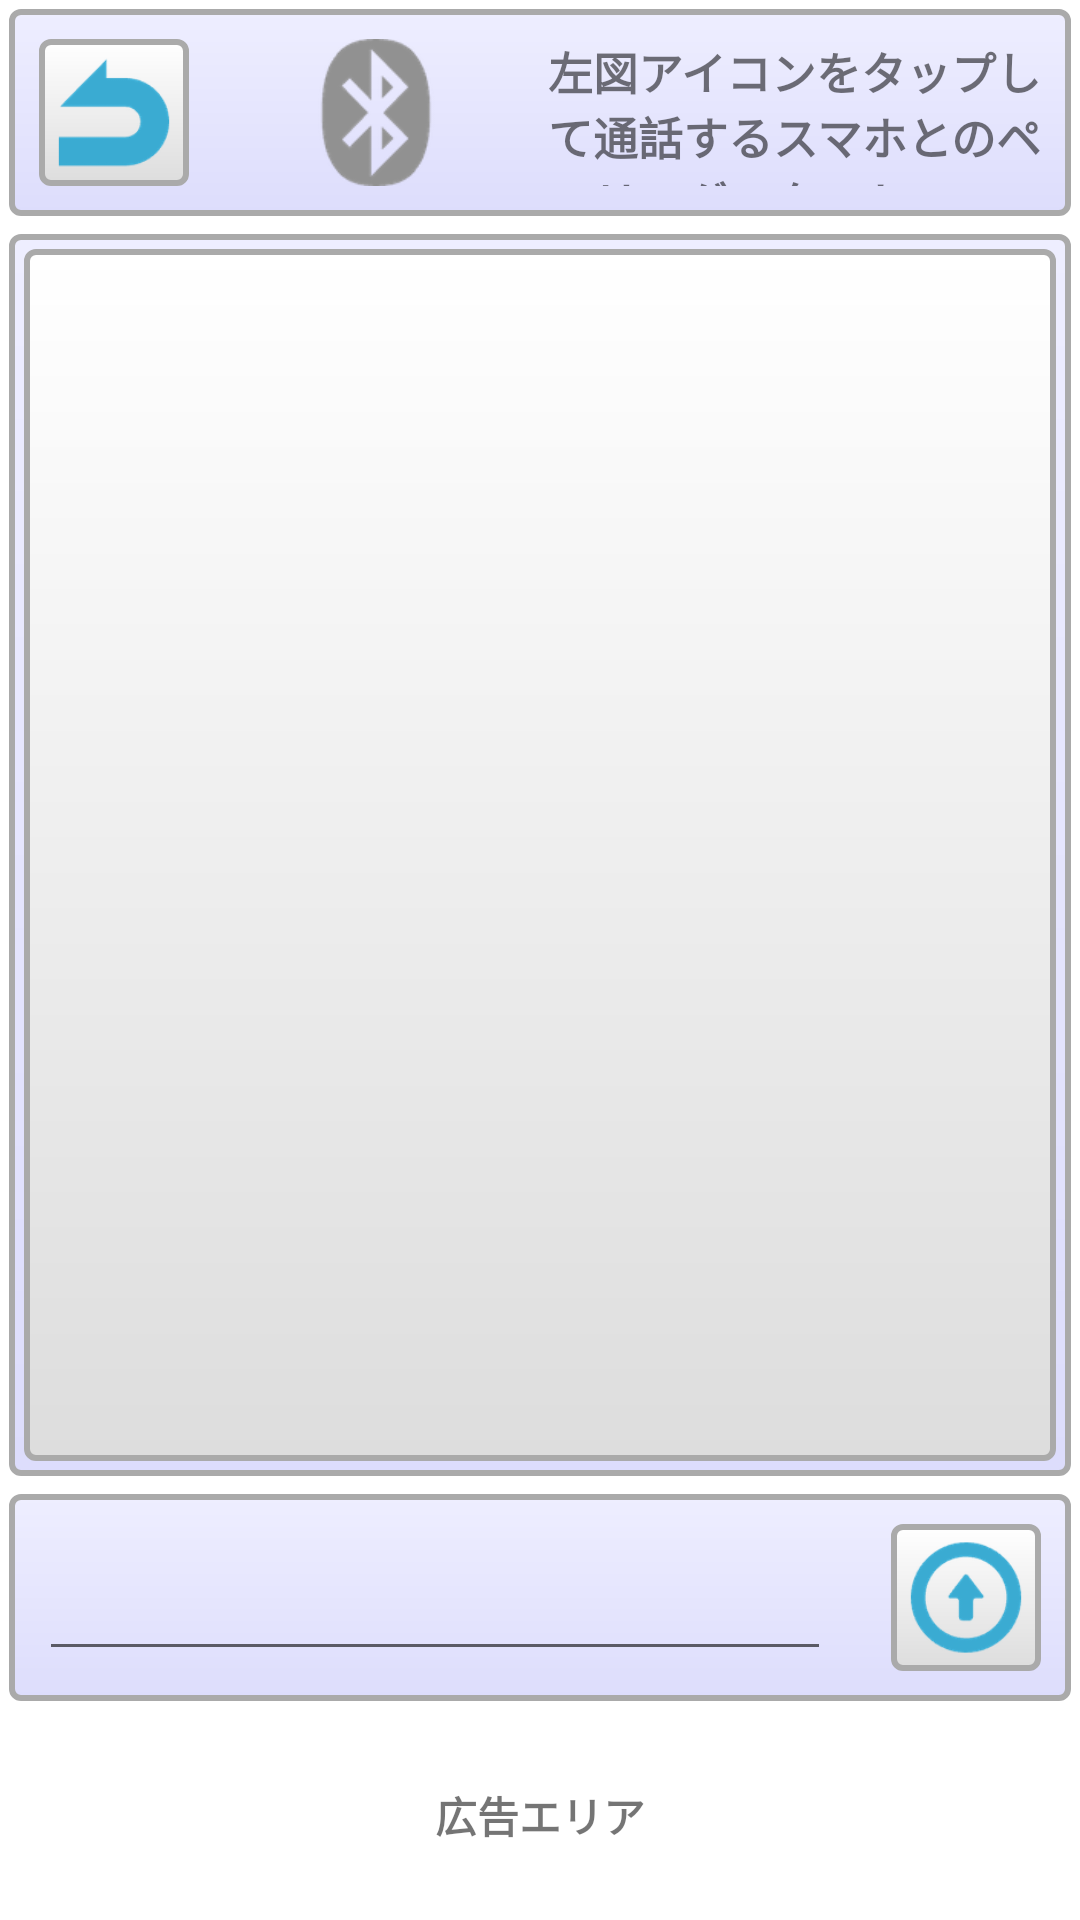

Named icons in this screenshot (1080×1920) and their bounding boxes, (x1, y1, x2, y2):
back: (39, 39, 189, 186)
send: (891, 1524, 1041, 1671)
